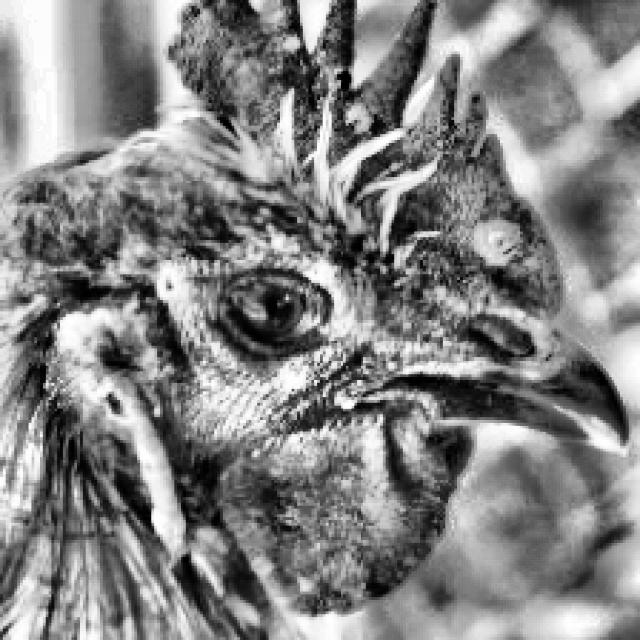Fowlpox: (209, 17, 565, 394)
